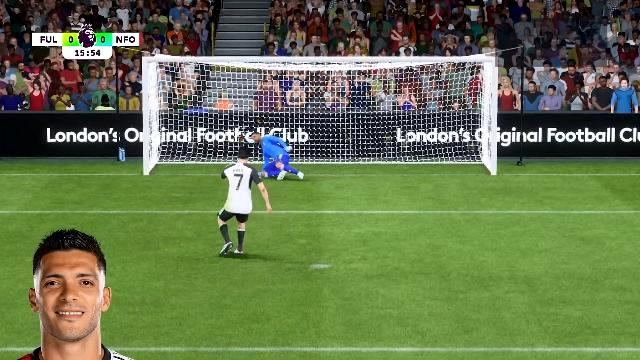bottom-left: (150, 117, 262, 175)
bottom-right: (375, 120, 491, 176)
center-down: (262, 118, 372, 178)
center-up: (264, 64, 372, 114)
football: (374, 91, 386, 103)
goalkeeper: (250, 131, 308, 180)
player: (216, 144, 274, 262)
top-left: (148, 62, 262, 116)
top-right: (376, 63, 492, 118)
